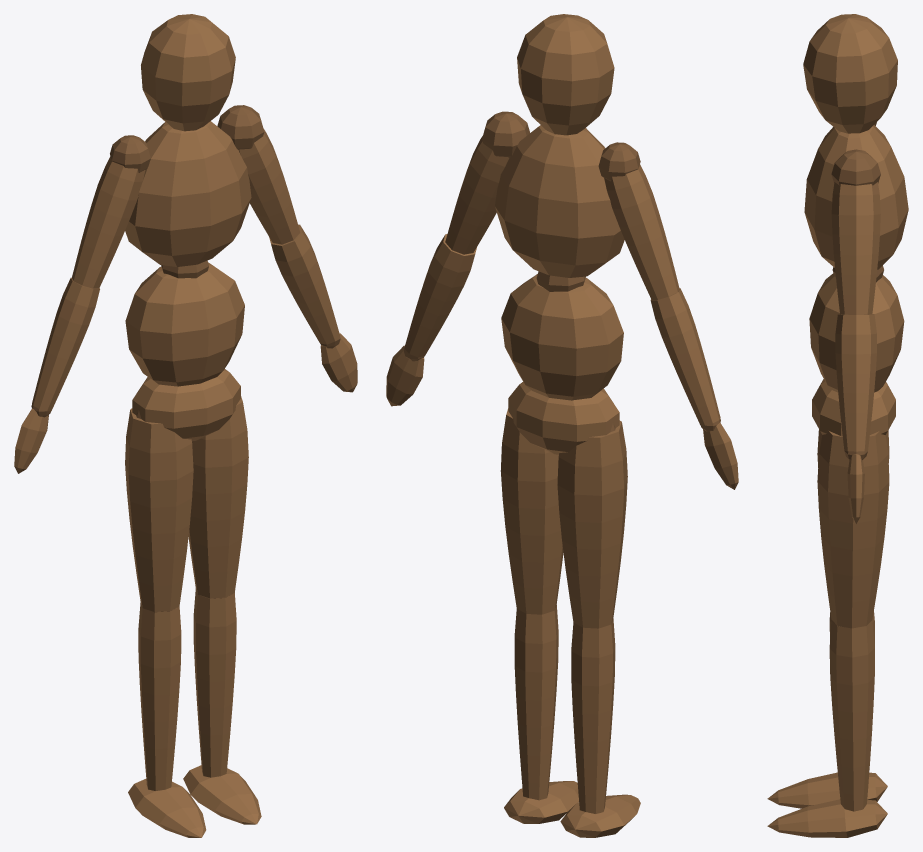
The model's file is mannequin.glb.
The picture shows the model from 3 angles, left to right: view 1: azimuth 30°, elevation 25°; view 2: azimuth 150°, elevation 25°; view 3: azimuth 270°, elevation 25°; orthographic projection. The views are drawn at different scales.
Parts seen in each view (by area): view 1: chest, abdomen, thigh_R, thigh_L, head, shin_L, shin_R, pelvis, upper_arm_R, forearm_R, forearm_L, upper_arm_L (+6 smaller); view 2: chest, abdomen, thigh_R, thigh_L, head, shin_L, shin_R, upper_arm_R, pelvis, forearm_R, forearm_L, upper_arm_L (+7 smaller); view 3: thigh_L, head, shin_L, chest, upper_arm_L, forearm_L, abdomen, foot_L, pelvis, foot_R, shoulder_L, hand_L.
Part boxes in pixels (x1,y1,x2,y2): chest: (125,121,251,266); abdomen: (125,262,244,386); thigh_R: (125,408,193,611); thigh_L: (188,396,248,598); head: (141,14,235,131); shin_L: (193,588,236,777); shin_R: (138,602,181,790); pelvis: (132,369,240,441); upper_arm_R: (72,156,145,288); forearm_R: (32,277,99,411); forearm_L: (269,224,339,344); upper_arm_L: (238,128,300,244); chest: (495,125,624,277); abdomen: (501,274,623,400); thigh_R: (557,420,627,628); thigh_L: (500,408,563,614); head: (517,14,614,135); shin_L: (514,605,558,800); shin_R: (571,618,615,813); upper_arm_R: (604,164,679,299); pelvis: (508,382,619,454); forearm_R: (650,288,720,425); forearm_L: (404,234,476,357); upper_arm_L: (445,136,509,254); thigh_L: (817,430,889,628); head: (803,14,897,133); shin_L: (829,620,874,811); chest: (804,125,908,269); upper_arm_L: (831,182,880,314); forearm_L: (835,314,876,451); abdomen: (809,273,904,392); foot_L: (767,799,887,837); pelvis: (812,379,895,436); foot_R: (767,772,887,808); shoulder_L: (831,149,880,185); hand_L: (847,454,864,523).
Bounding box in the file's own units: 3.73 × 8.2 × 1.31.
